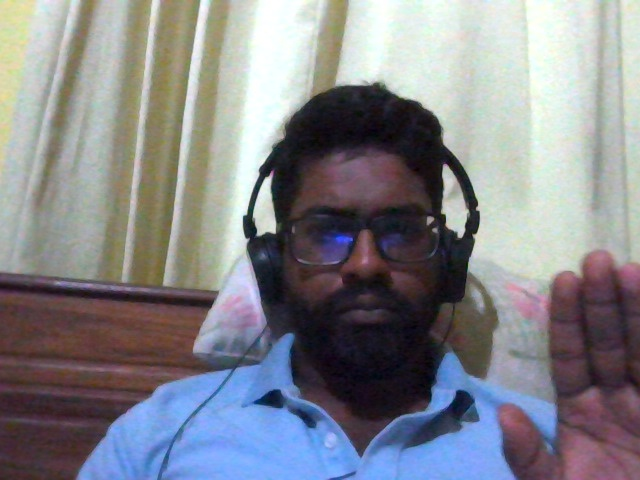Hello: (482, 241, 640, 480)
